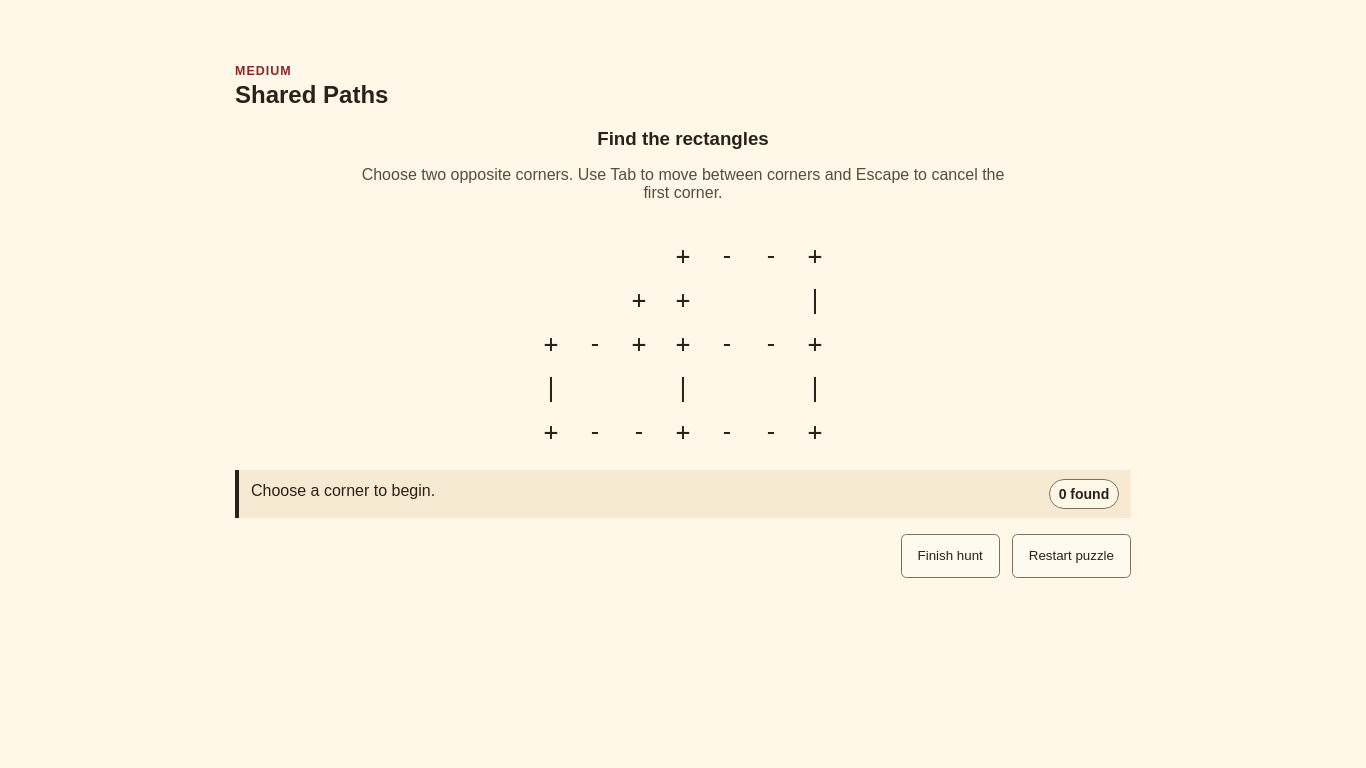
Test case: Rectangle Hunt game loop › cancelling the finish confirmation preserves the active hunt
Click the button named "Corner at row 1, column 4" at x=683, y=256, box [661,234,705,278]
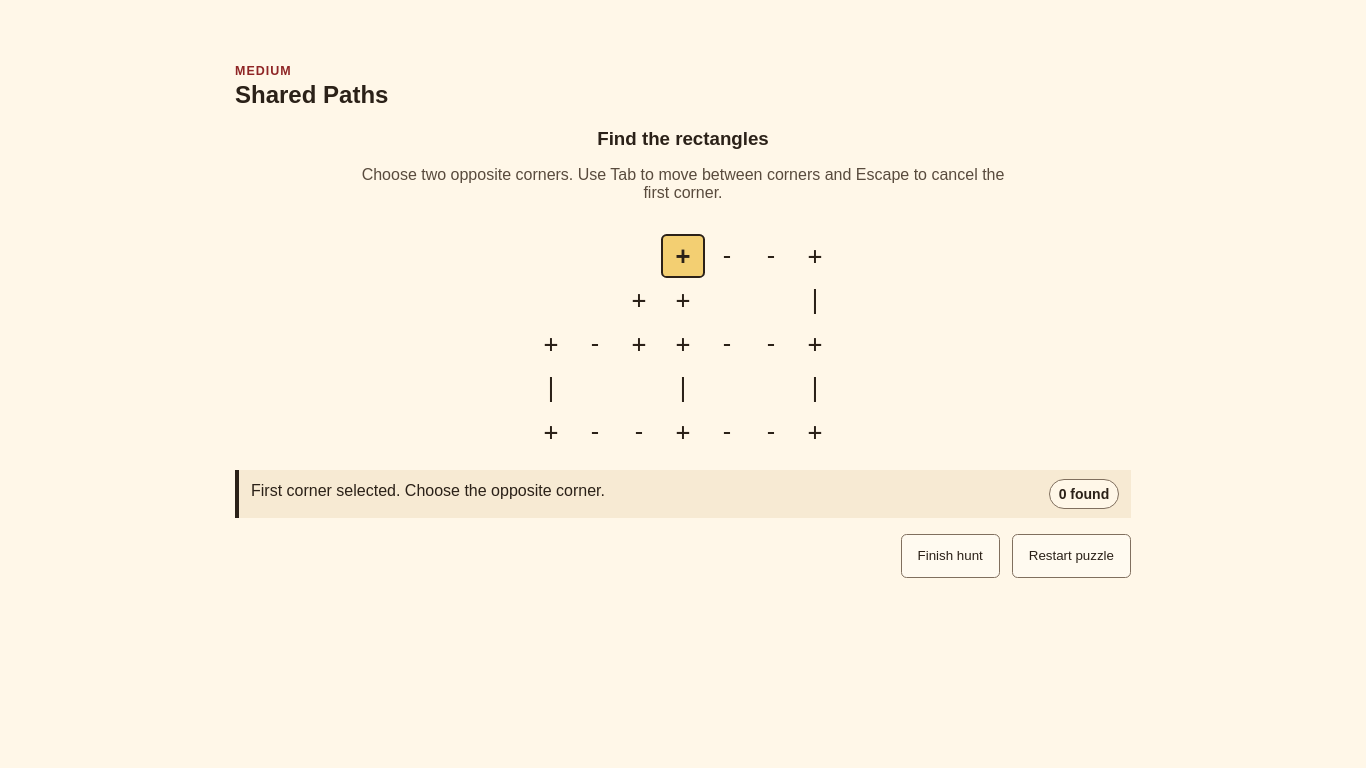
Click the 8th button "+" at x=815, y=344, box [793,322,837,366]
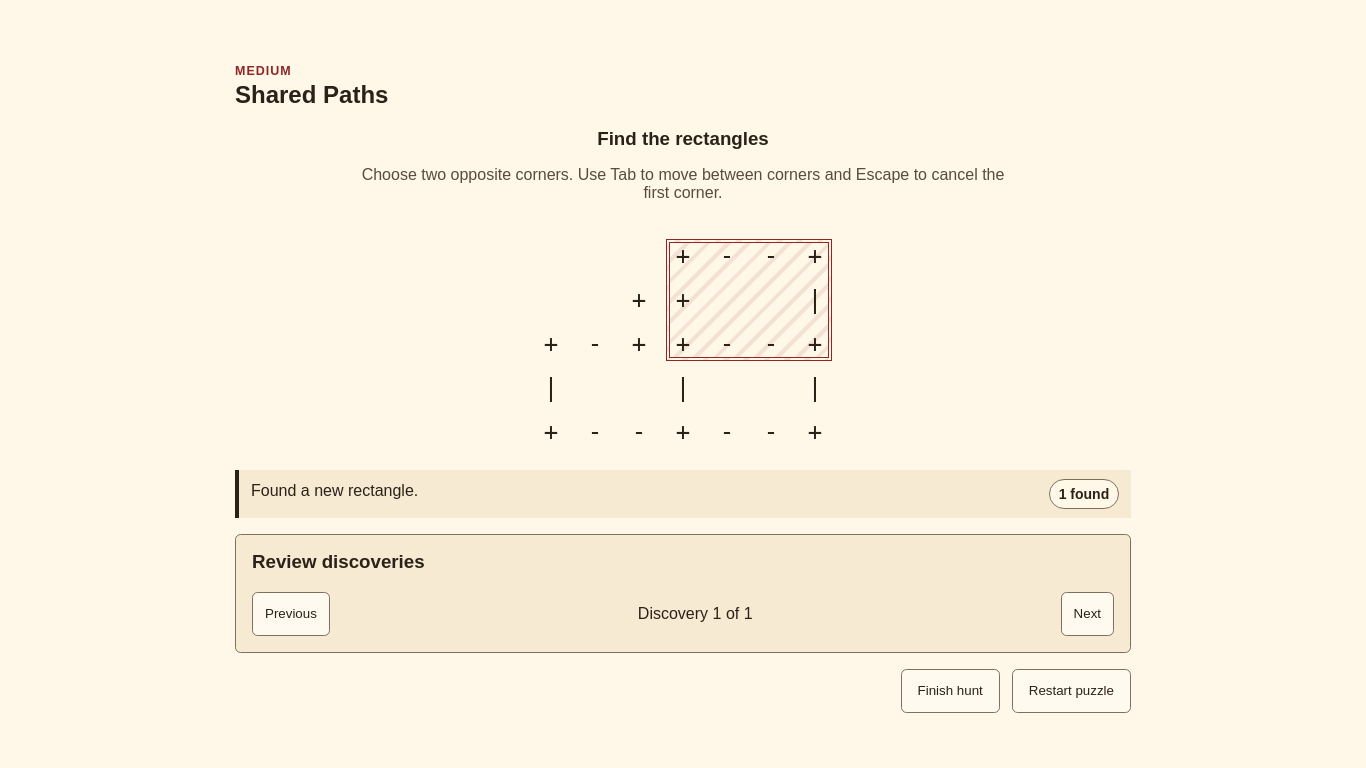
Click the button "Finish hunt" at x=950, y=691, box [901,669,1000,713]
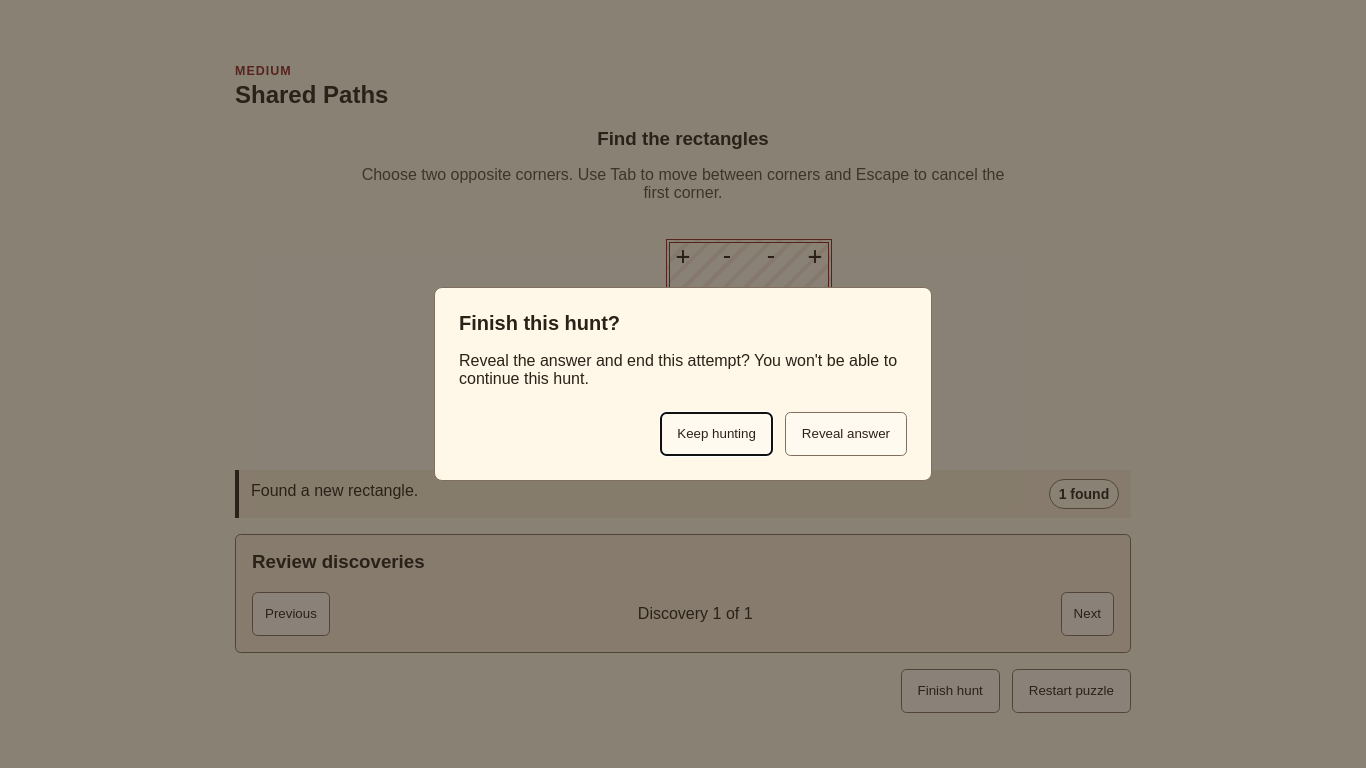
Check: the dialog "Finish this hunt?" shows "Reveal the answer and end this attempt? You won't be able to continue this hunt.", box [459,352,897,387]
Click the button "Keep hunting" at x=717, y=434, box [660,412,773,456]
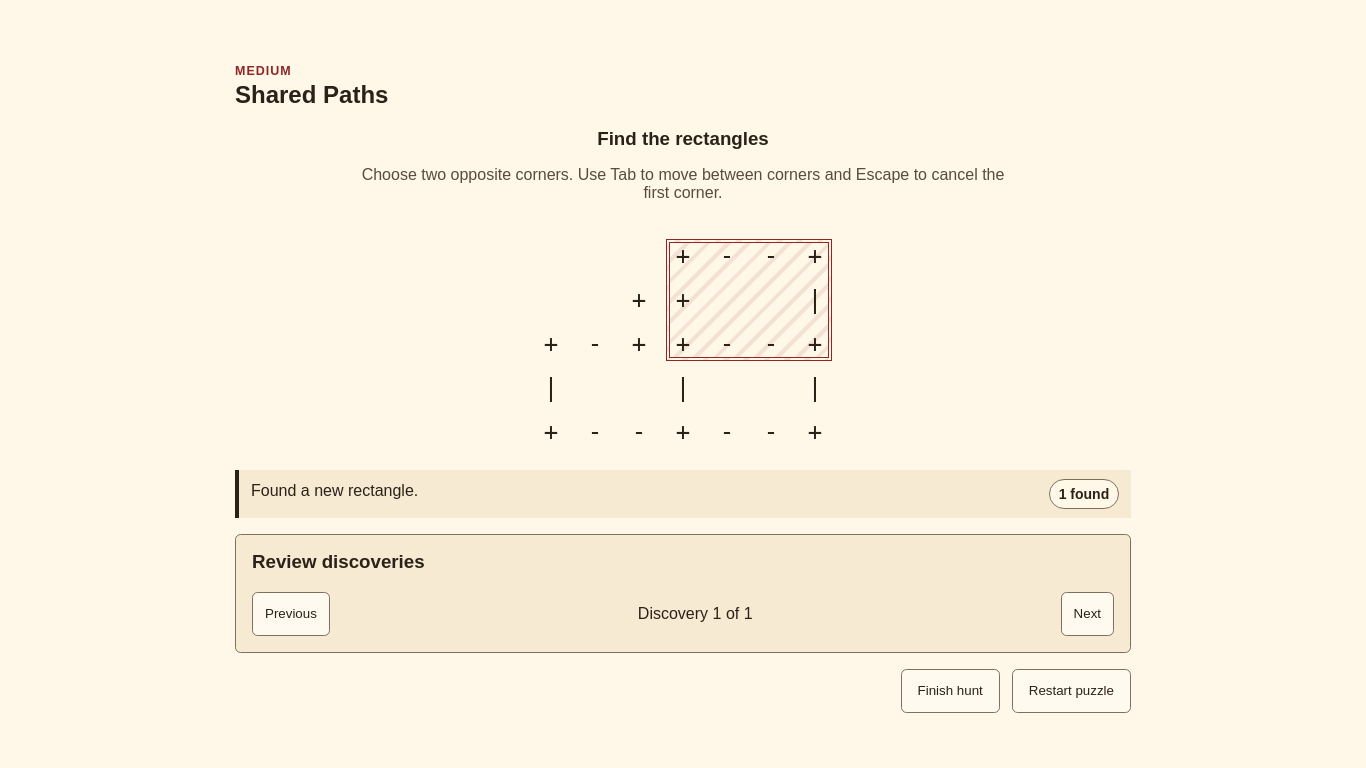
Check: the button "Finish hunt" is shown, box [901,669,1000,713]
Check: the text named "1 rectangle found" reads "1 found", box [1049,479,1119,508]
Check: the heading "Finish this hunt?" is gone
